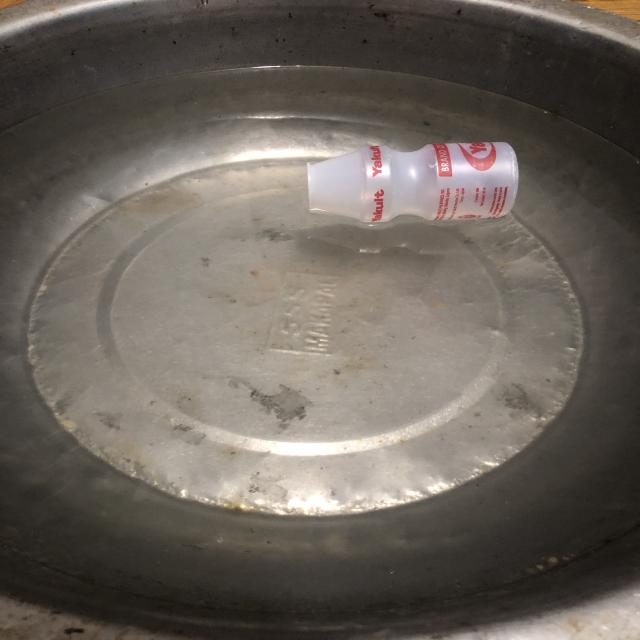Plastic Bottle: (290, 130, 538, 246)
